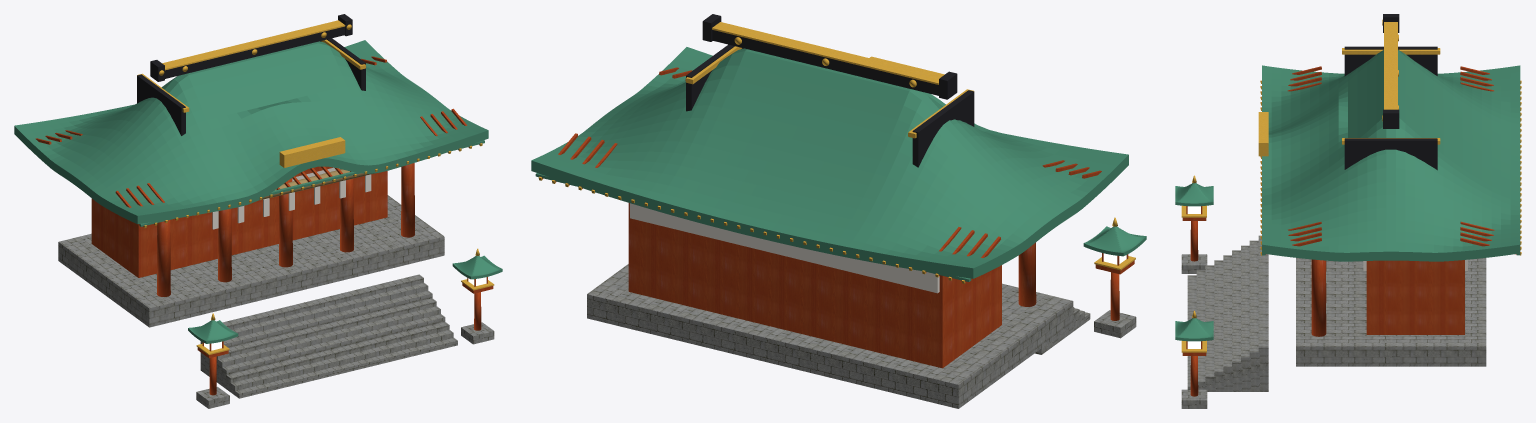
File: naihaiden.glb
The picture shows the model from 3 angles, left to right: view 1: azimuth 30°, elevation 25°; view 2: azimuth 150°, elevation 25°; view 3: azimuth 270°, elevation 25°; orthographic projection. The views are drawn at different scales.
Parts seen in each view (by area): view 1: MAT_Copper_Patina_Green, MAT_Granite_Stone_Moss, MAT_Vermilion_ShuIro, MAT_Gold_Kanagu_Leaf, MAT_Black_Lacquer_Nemaki, MAT_White_Shikku_Plaster, MAT_Straw_Shimenawa; view 2: MAT_Copper_Patina_Green, MAT_Vermilion_ShuIro, MAT_Granite_Stone_Moss, MAT_Black_Lacquer_Nemaki, MAT_White_Shikku_Plaster, MAT_Gold_Kanagu_Leaf; view 3: MAT_Copper_Patina_Green, MAT_Granite_Stone_Moss, MAT_Vermilion_ShuIro, MAT_Black_Lacquer_Nemaki, MAT_Gold_Kanagu_Leaf.
Boxes of the visible parts, box(x1,y1,x2,y2) form: MAT_Copper_Patina_Green: box(14, 40, 502, 343); MAT_Granite_Stone_Moss: box(58, 195, 494, 408); MAT_Vermilion_ShuIro: box(35, 56, 493, 395); MAT_Gold_Kanagu_Leaf: box(137, 20, 494, 354); MAT_Black_Lacquer_Nemaki: box(137, 14, 365, 135); MAT_White_Shikku_Plaster: box(212, 167, 371, 229); MAT_Straw_Shimenawa: box(194, 169, 374, 215); MAT_Copper_Patina_Green: box(531, 47, 1146, 281); MAT_Vermilion_ShuIro: box(540, 67, 1134, 368); MAT_Granite_Stone_Moss: box(587, 264, 1136, 408); MAT_Black_Lacquer_Nemaki: box(686, 14, 974, 167); MAT_White_Shikku_Plaster: box(630, 203, 939, 293); MAT_Gold_Kanagu_Leaf: box(538, 22, 1135, 283); MAT_Copper_Patina_Green: box(1175, 49, 1520, 341); MAT_Granite_Stone_Moss: box(1181, 235, 1486, 408); MAT_Vermilion_ShuIro: box(1182, 66, 1520, 396); MAT_Black_Lacquer_Nemaki: box(1344, 14, 1437, 170); MAT_Gold_Kanagu_Leaf: box(1181, 19, 1521, 352).
Bounding box in the file's own units: 13.8 × 9.78 × 11.28.
8 materials, 3 textured.
